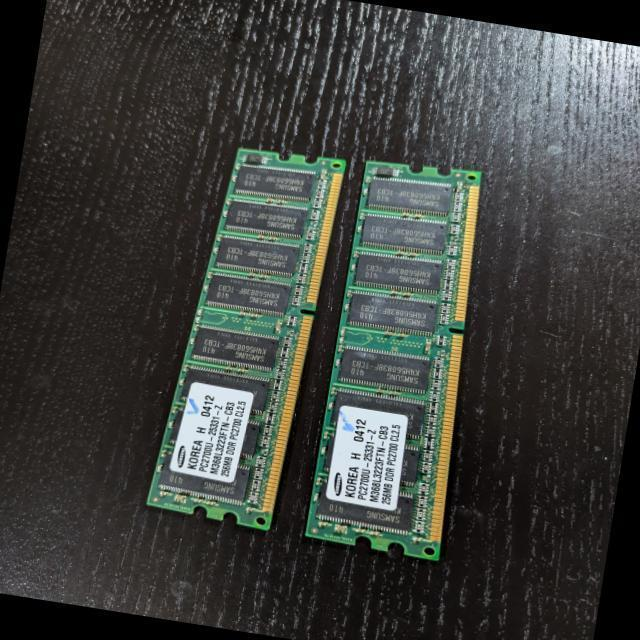RAM: (304, 153, 504, 563), (145, 138, 346, 534)
